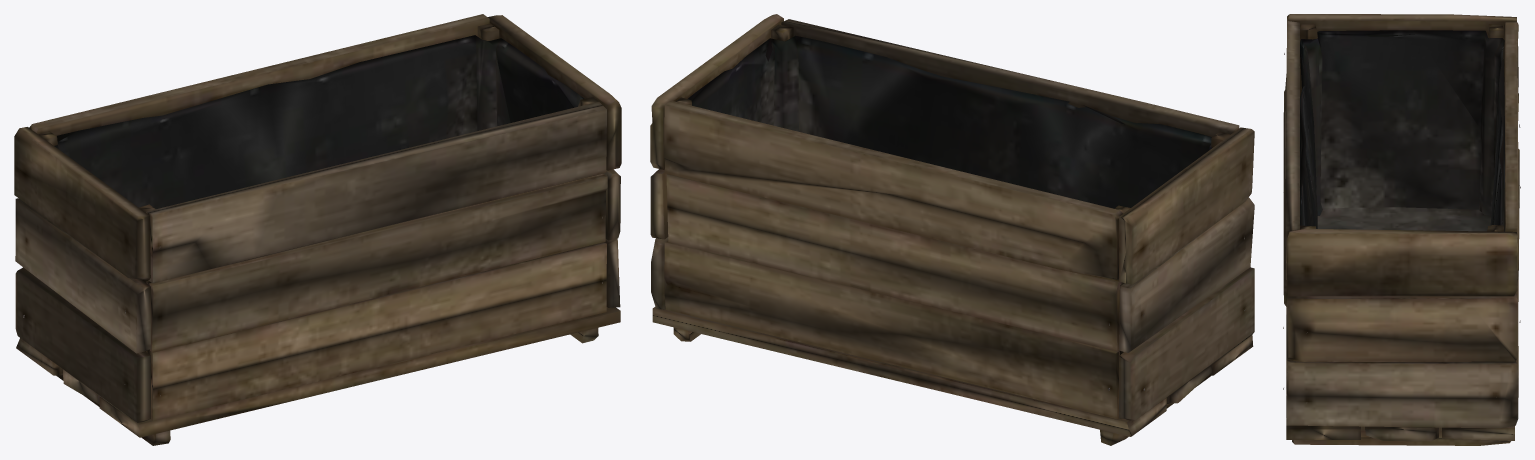
Rendered from planter-box.glb.
3 renders of one model, left to right at view 1: azimuth 30°, elevation 25°; view 2: azimuth 150°, elevation 25°; view 3: azimuth 270°, elevation 25°, orthographic. The views are drawn at different scales.
Parts seen in each view (by area): view 1: planter_box_01; view 2: planter_box_01; view 3: planter_box_01.
Part boxes in pixels (left/top/right/bottom): planter_box_01: left=14, top=14, right=621, bottom=445; planter_box_01: left=650, top=14, right=1254, bottom=445; planter_box_01: left=1283, top=14, right=1520, bottom=445.
Bounding box in the file's own units: 0.9116 × 0.425 × 0.413.
Materials: 1 (1 with a texture image).
